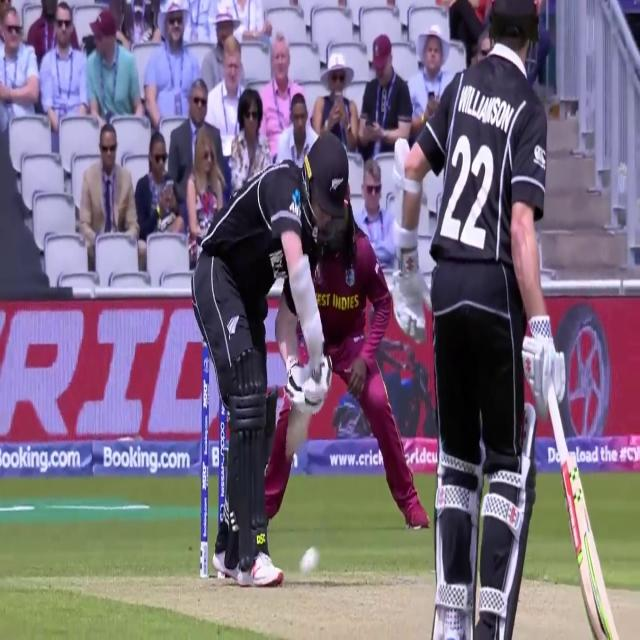ball: (290, 534, 329, 590)
